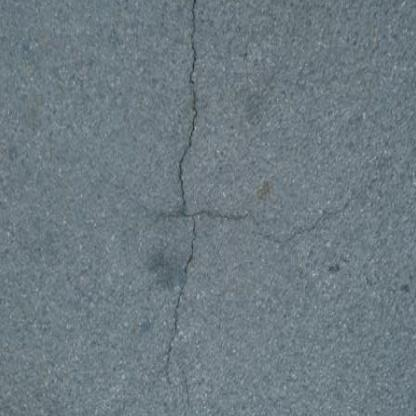Cracks: (157, 0, 210, 416), (255, 141, 416, 265), (100, 168, 275, 248)
